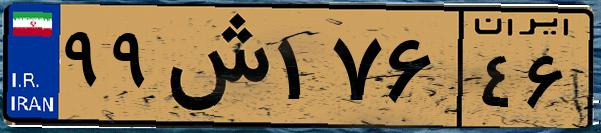1: (270, 28, 330, 110)
4: (475, 38, 525, 113)
6: (385, 28, 445, 110), (525, 38, 570, 115)
7: (330, 28, 385, 110)
9: (57, 26, 110, 100), (110, 28, 158, 98)
ش: (158, 12, 270, 120)
